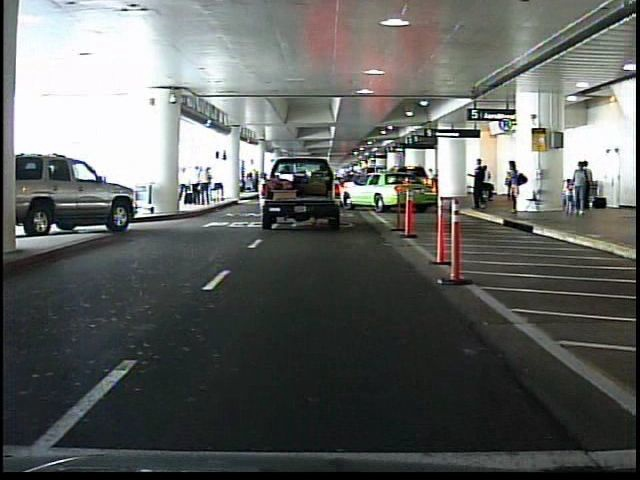person: (504, 155, 525, 217), (468, 154, 489, 213), (482, 159, 496, 210)
